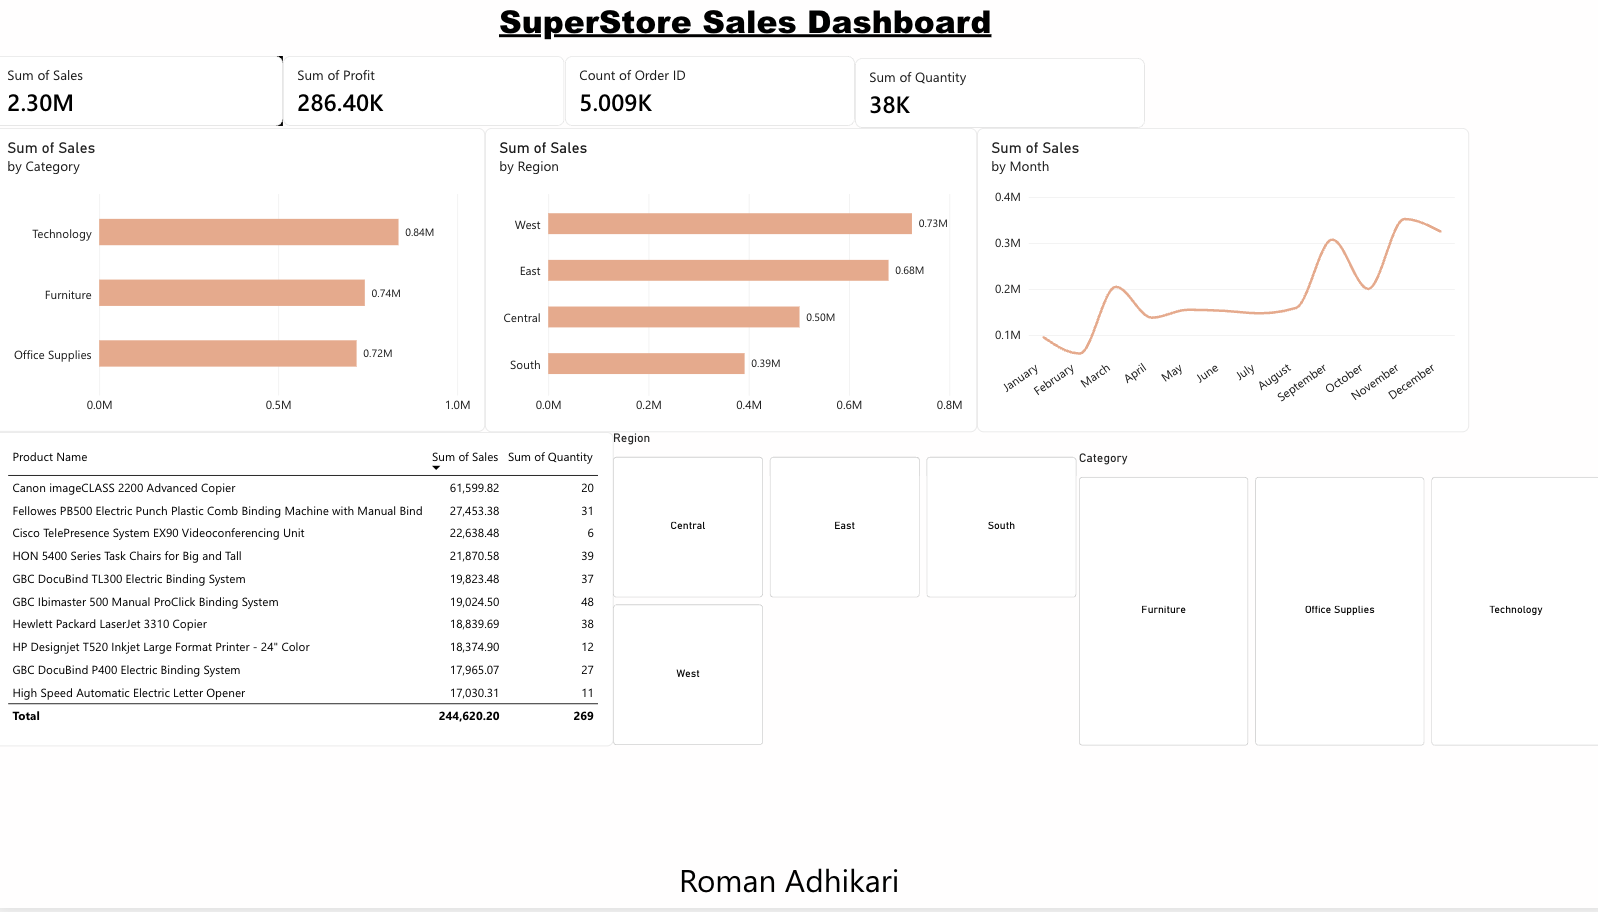

The page's visual inventory and layout, read from the dashboard file:
{"tool":"powerbi","page":{"name":"Page 1","canvas":[1920,1080],"ordinal":0},"visuals":[{"type":"cardVisual","fields":{"Data":["Sum(Sample - Superstore 1.Sales)"]},"box":[0,0,344.1,83.1],"z":0},{"type":"cardVisual","fields":{"Data":["Sum(Sample - Superstore 1.Profit)"]},"box":[344.1,0,334.6,83.1],"z":1000},{"type":"cardVisual","fields":{"Data":["Count(Sample - Superstore 1.Order ID)"]},"box":[678.8,0,344.1,83.1],"z":2000},{"type":"cardVisual","fields":{"Data":["Sum(Sample - Superstore 1.Quantity)"]},"box":[1022.9,0,344.1,83.1],"z":3000},{"type":"clusteredBarChart","fields":{"Category":["Sample - Superstore 1.Category"],"Y":["Sum(Sample - Superstore 1.Sales)"]},"box":[0,154.3,583.8,360.7],"z":4000},{"type":"clusteredBarChart","fields":{"Category":["Sample - Superstore 1.Region"],"Y":["Sum(Sample - Superstore 1.Sales)"]},"box":[583.8,154.3,584,361],"z":5000},{"type":"lineChart","fields":{"Category":["Sample - Superstore 1.Order Date.Variation.Date Hierarchy.Year","Sample - Superstore 1.Order Date.Variation.Date Hierarchy.Quarter","Sample - Superstore 1.Order Date.Variation.Date Hierarchy.Month","Sample - Superstore 1.Order Date.Variation.Date Hierarchy.Day"],"Y":["Sum(Sample - Superstore 1.Sales)"]},"box":[1167.7,154.3,584,361],"z":6000},{"type":"tableEx","fields":{"Values":["Sample - Superstore 1.Product Name","Sum(Sample - Superstore 1.Sales)","Sum(Sample - Superstore 1.Quantity)"]},"box":[0,525,584,361],"z":6001}]}

Visuals, with their boxes in screenshot pixels (x1, y1, x2, y2), scaled from the page's 1920x1080 canvas onto the 1598x912 screenshot:
cardVisual - Sum(Sample - Superstore 1.Sales): region(0, 0, 286, 70)
cardVisual - Sum(Sample - Superstore 1.Profit): region(286, 0, 565, 70)
cardVisual - Count(Sample - Superstore 1.Order ID): region(565, 0, 851, 70)
cardVisual - Sum(Sample - Superstore 1.Quantity): region(851, 0, 1138, 70)
clusteredBarChart - Sample - Superstore 1.Category x Sum(Sample - Superstore 1.Sales): region(0, 130, 486, 435)
clusteredBarChart - Sample - Superstore 1.Region x Sum(Sample - Superstore 1.Sales): region(486, 130, 972, 435)
lineChart - Sample - Superstore 1.Order Date.Variation.Date Hierarchy.Year x Sample - Superstore 1.Order Date.Variation.Date Hierarchy.Quarter: region(972, 130, 1458, 435)
tableEx - Sample - Superstore 1.Product Name x Sum(Sample - Superstore 1.Sales): region(0, 443, 486, 748)
